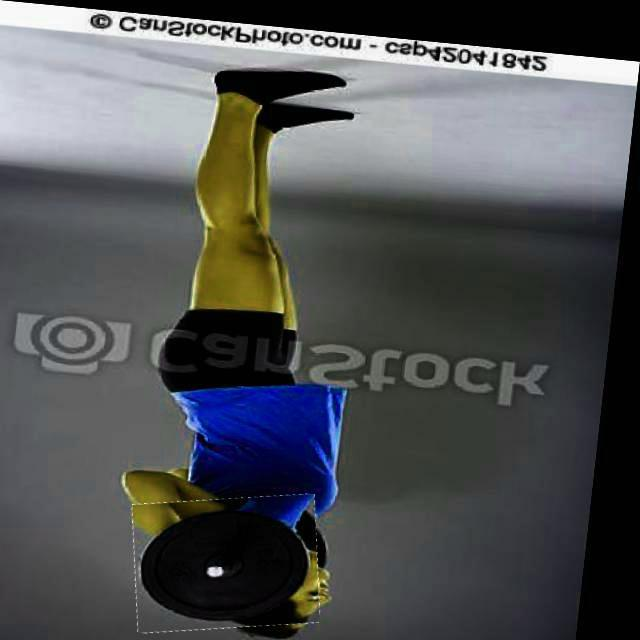barbell: (138, 480, 340, 635)
